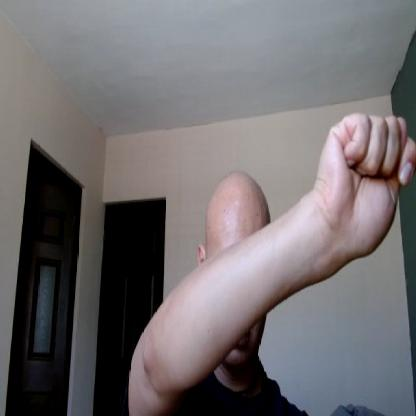T: (315, 111, 415, 261)
